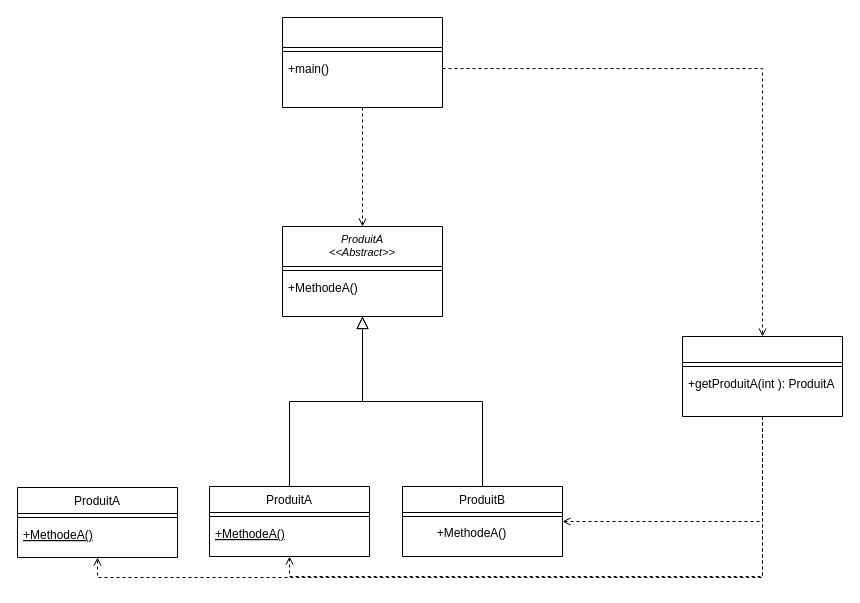
Image size: 860x603. Some labels were removed from this diagram. Each missing label, with the box of its shape:
Client: (282, 16, 442, 108)
ProductFactory: (682, 336, 842, 416)
